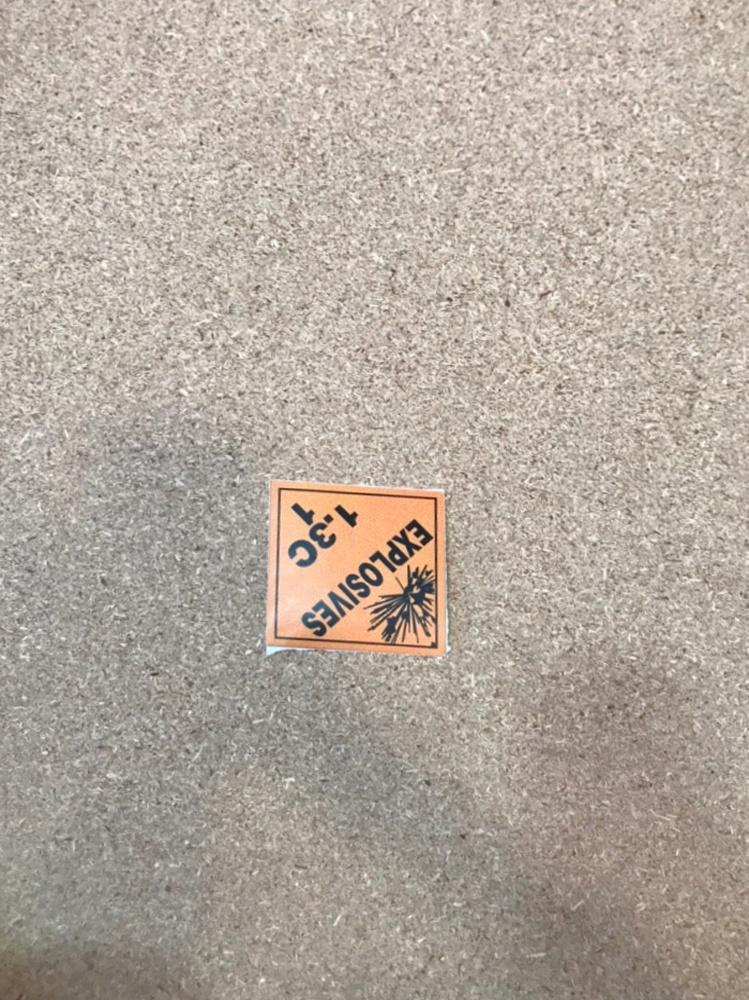explosive: (258, 485, 455, 650)
